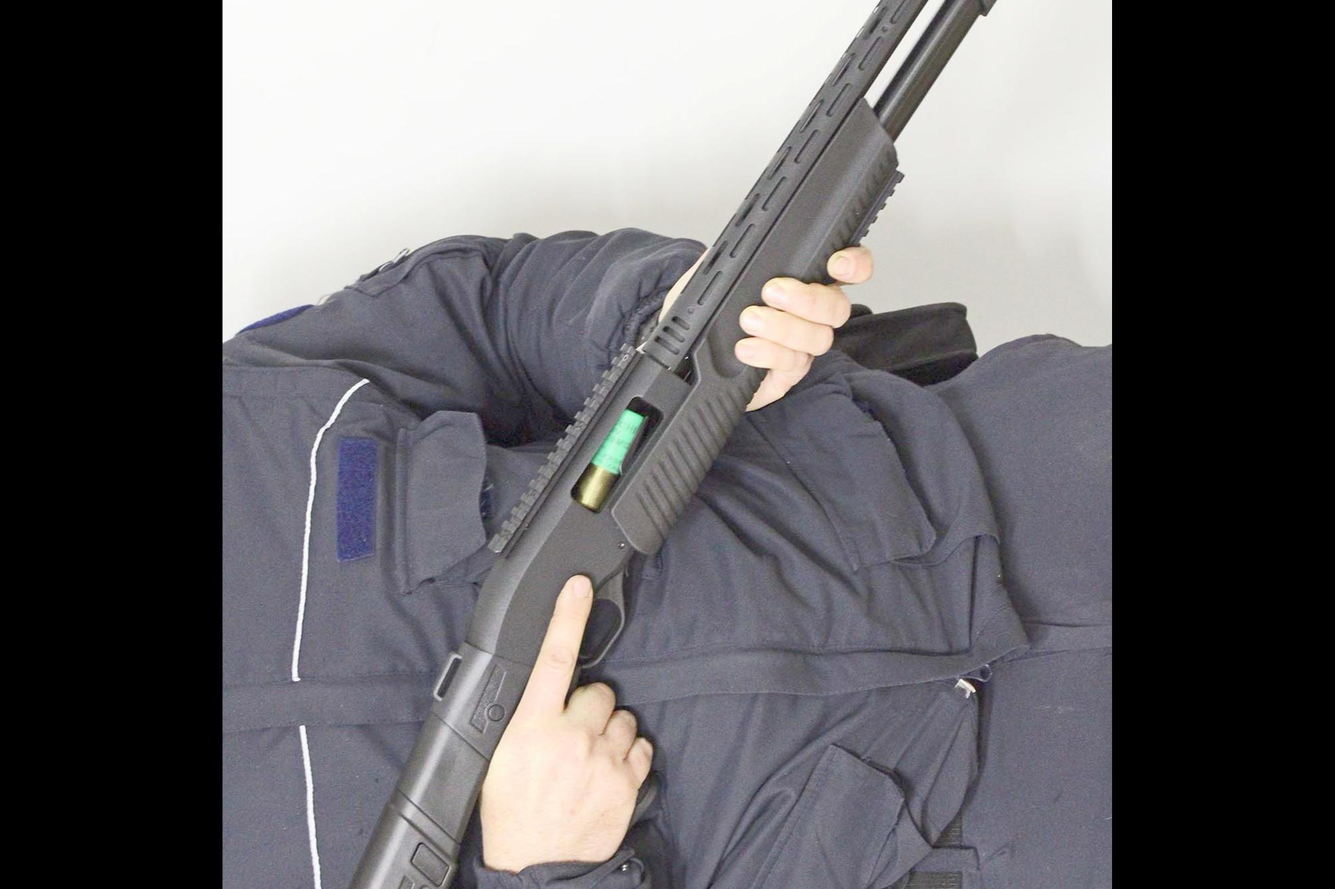gun: (281, 0, 1051, 889)
